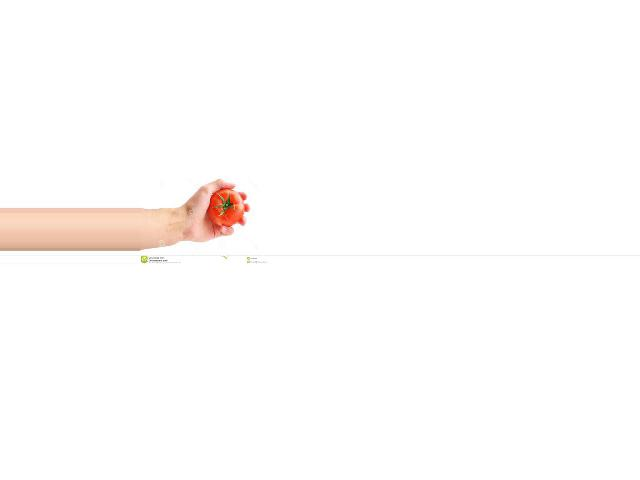tomato: (208, 189, 244, 227)
